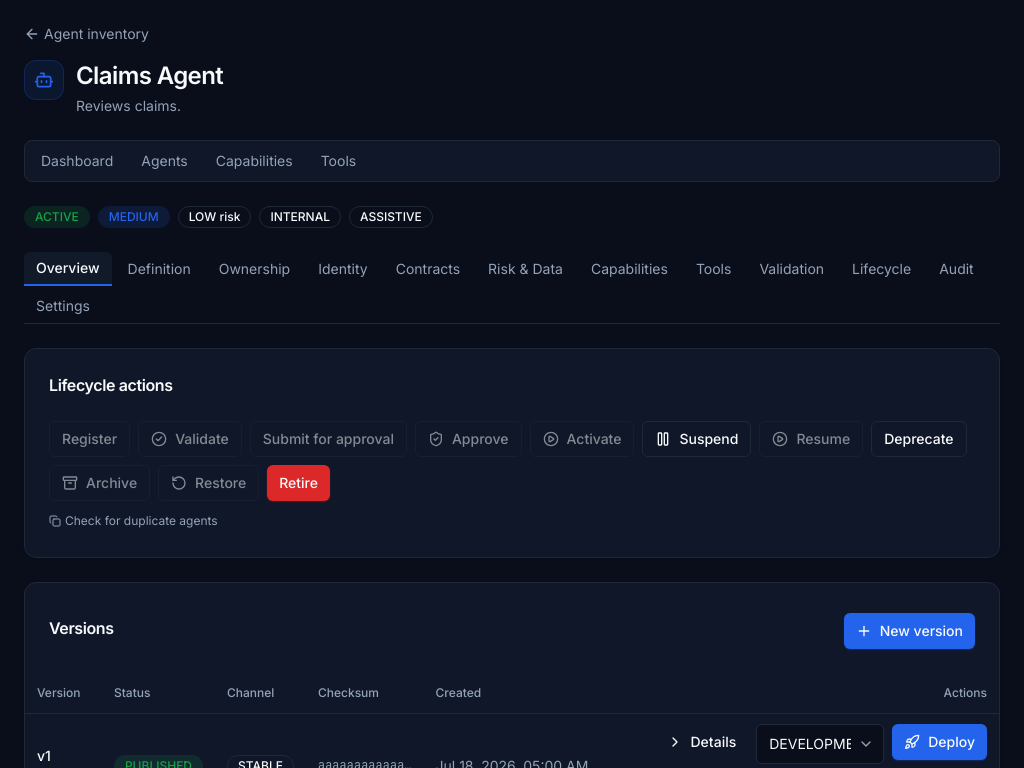
it: AgentDetailPage — Versions (Phase 5.2 Part 1) › locks release-detail edit forms once a version is PUBLISHED
Step 1. Click the button "Details" → [701, 742], box [654, 724, 748, 760]
(page scrolled)
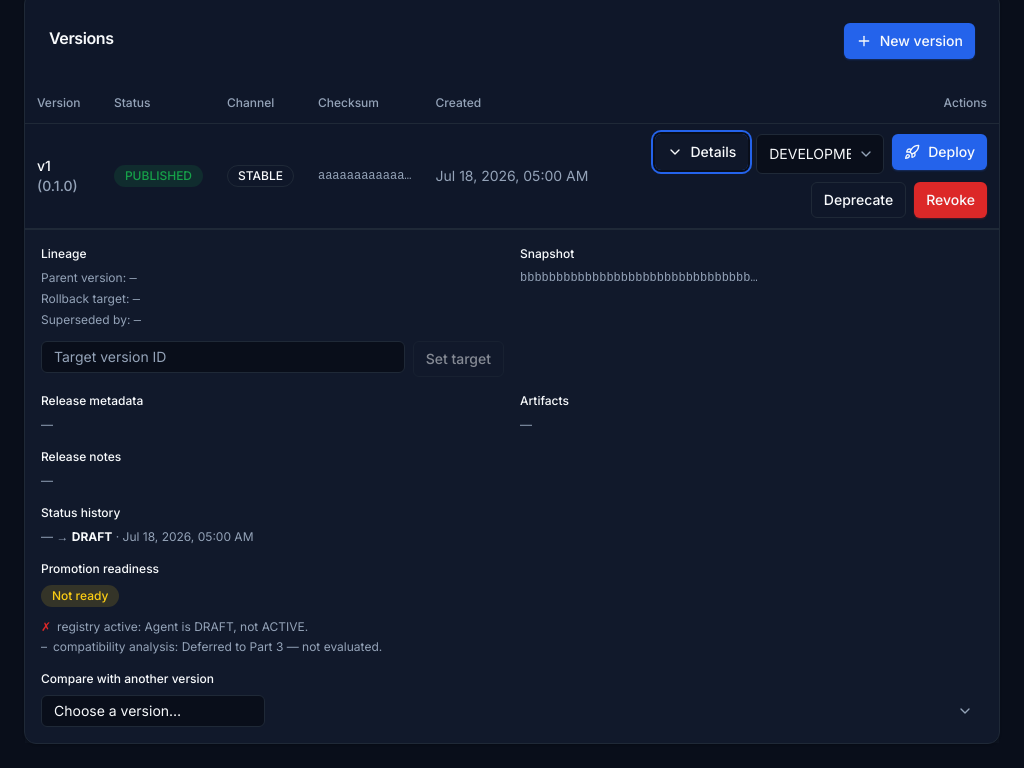
Expected: the heading "Artifacts" is shown, [520, 392, 569, 408]
